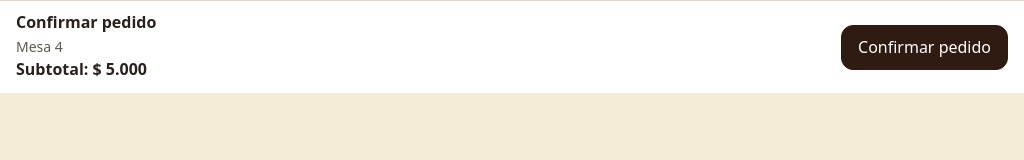
Test: ConfirmarPedido › muestra el error de conexión y conserva el carrito
Click the button "Confirmar pedido".
click(924, 47)  # box top-left (841, 24), bottom-right (1008, 70)
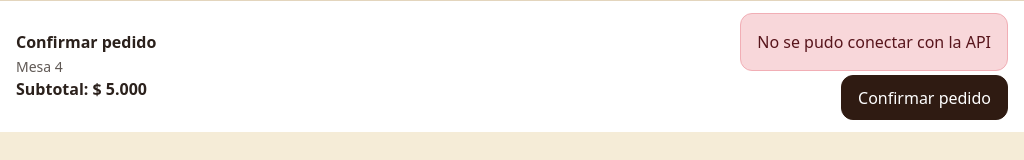
Expected: the message reads "No se pudo conectar con la API", top-left (757, 31), bottom-right (991, 53)
